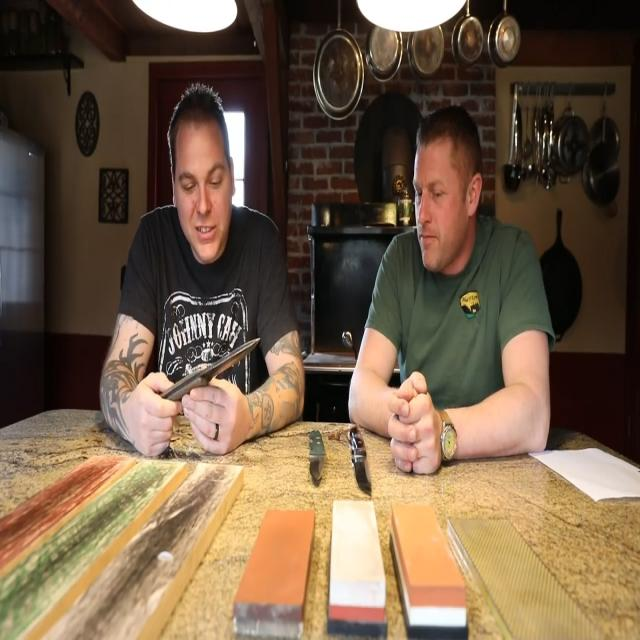knife: (349, 421, 375, 501), (309, 429, 329, 489)
